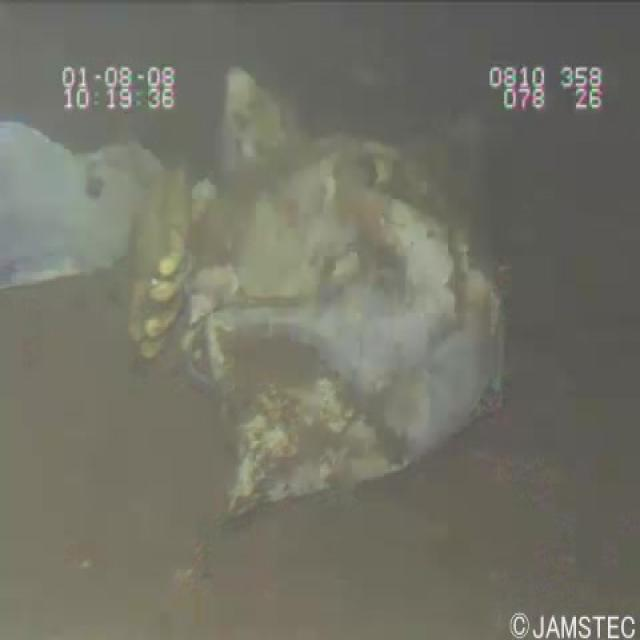plastic: (84, 50, 536, 551), (0, 101, 183, 299)
